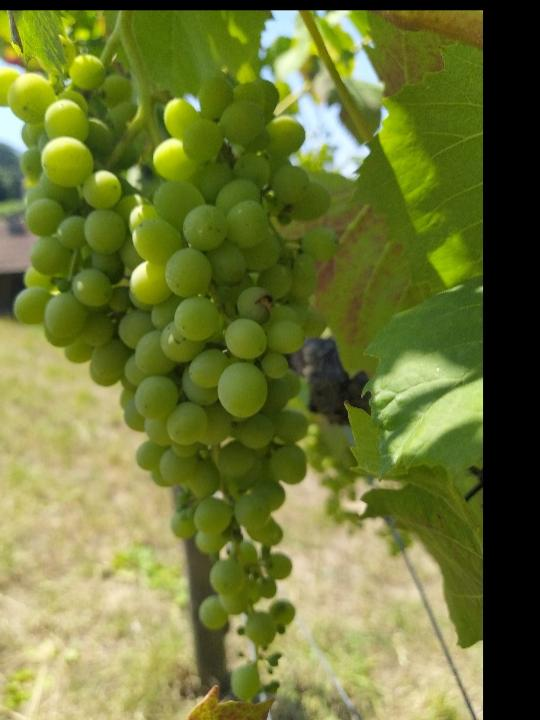grape: (0, 54, 343, 704)
